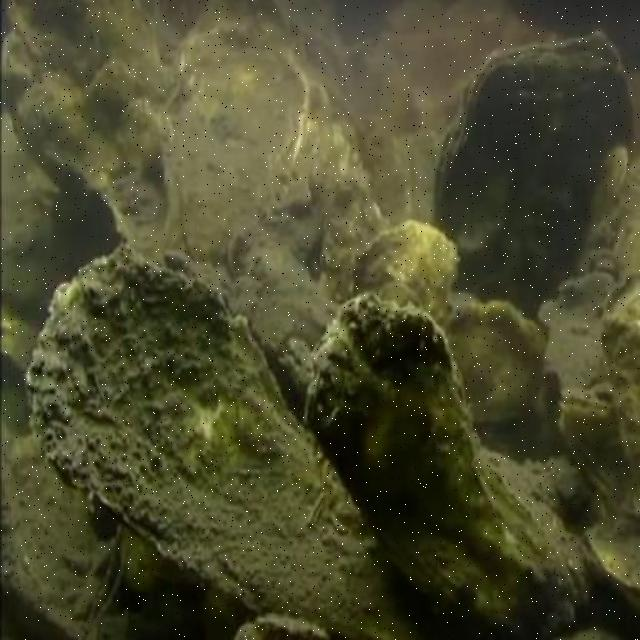Oyster-Closed: (36, 251, 375, 623), (309, 296, 575, 640), (438, 32, 635, 312), (175, 40, 309, 261), (450, 304, 551, 421), (353, 226, 457, 305), (581, 516, 640, 604), (560, 388, 610, 423)
